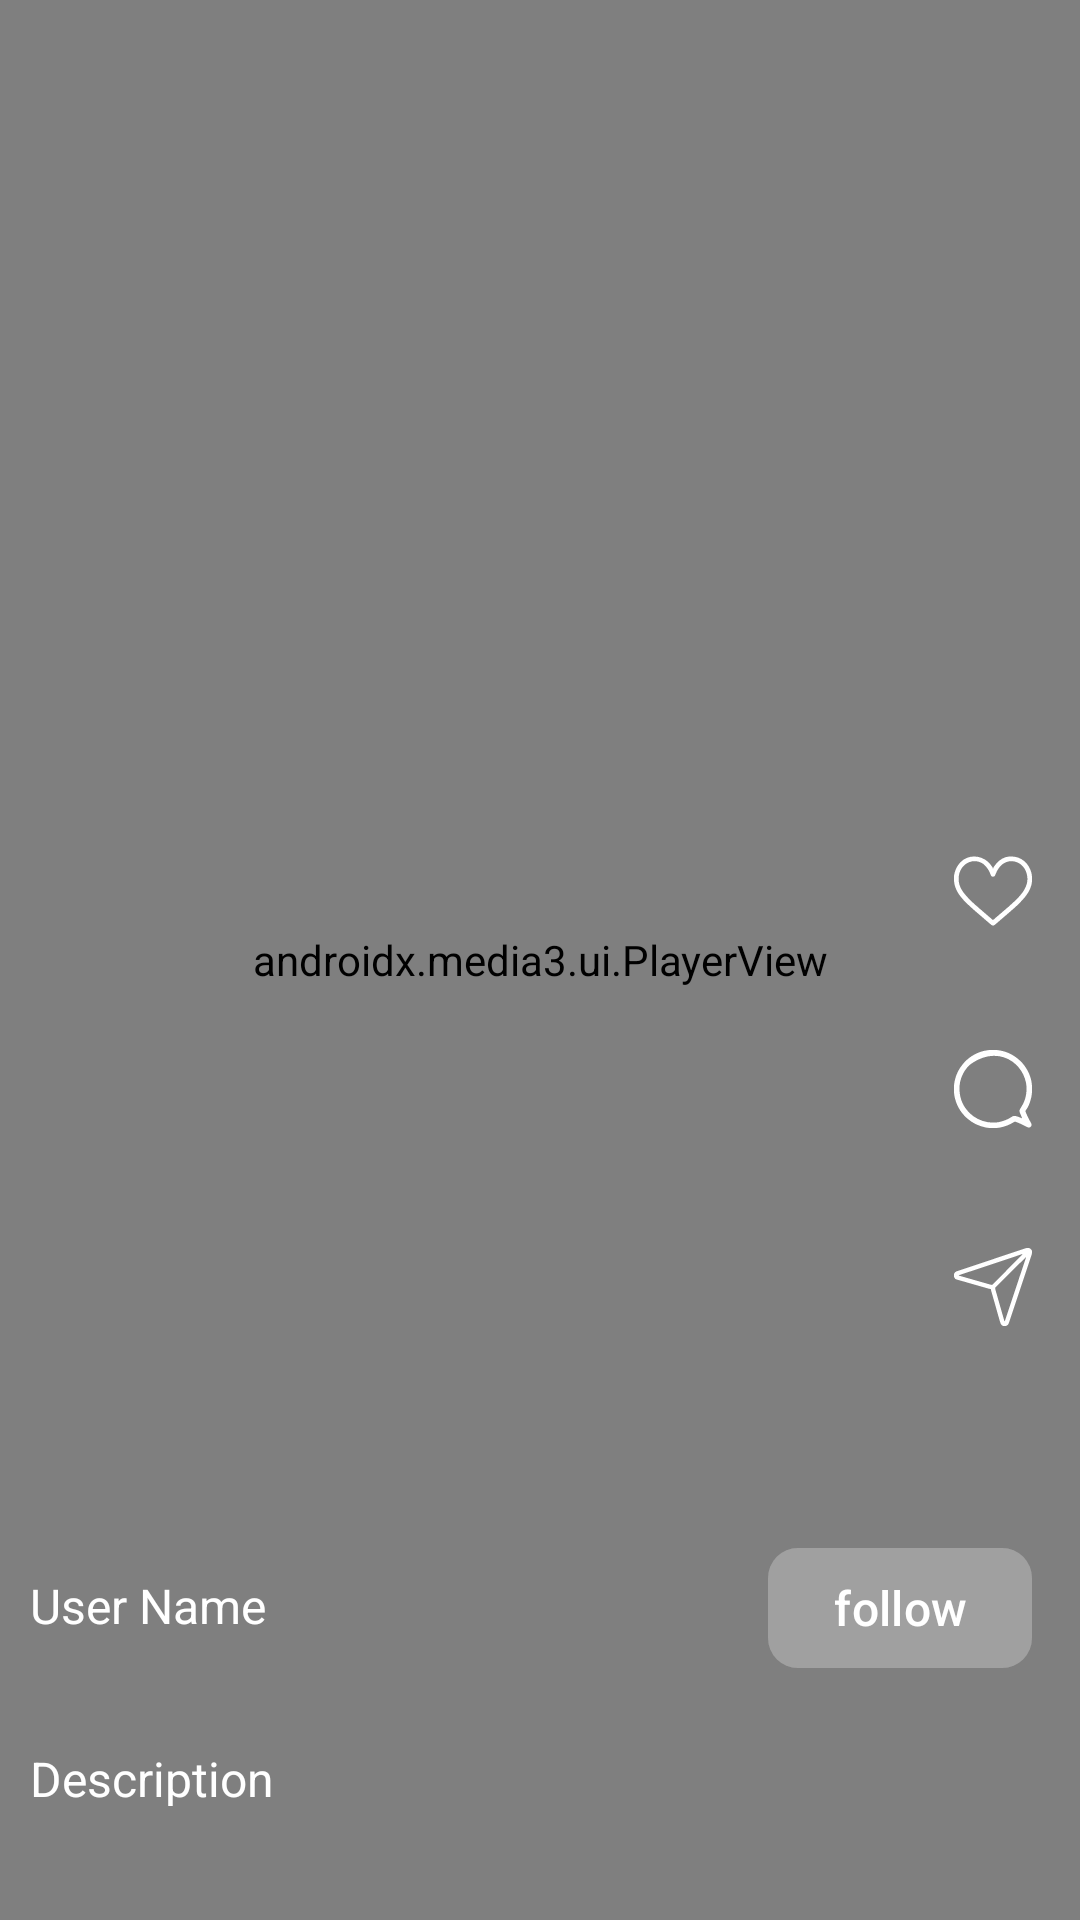

Icons on this 1080 × 1920 Android screen, each with its box as (x1, y1, x2, y2):
comment: (954, 1050, 1032, 1128)
insta send: (954, 1248, 1032, 1326)
like toggle: (954, 856, 1032, 926)
